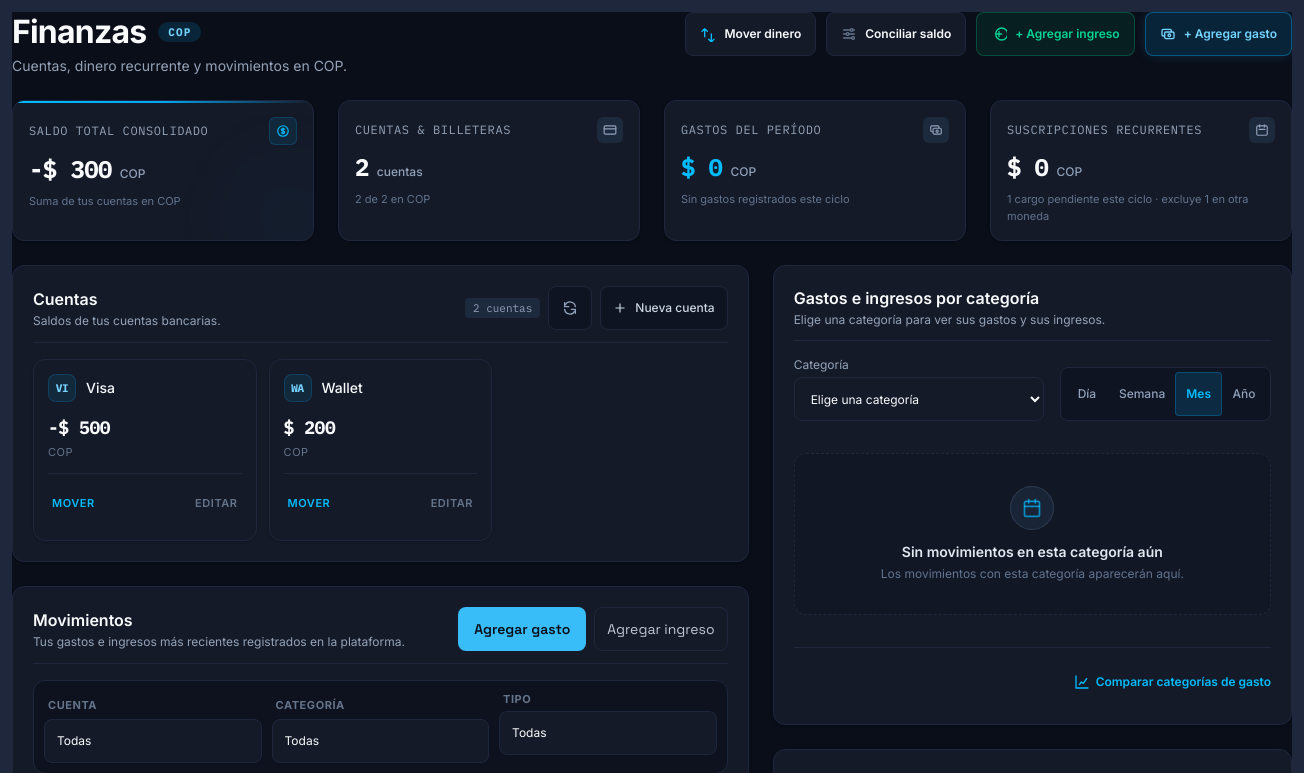
Test: finance T4 body › starts the first real balance editor from the header reconcile action
What coordinates should you click on to do the following:
click the button "Conciliar saldo"
I would click on:
 (896, 34)
Its box is x1=826 y1=12 x2=966 y2=56.
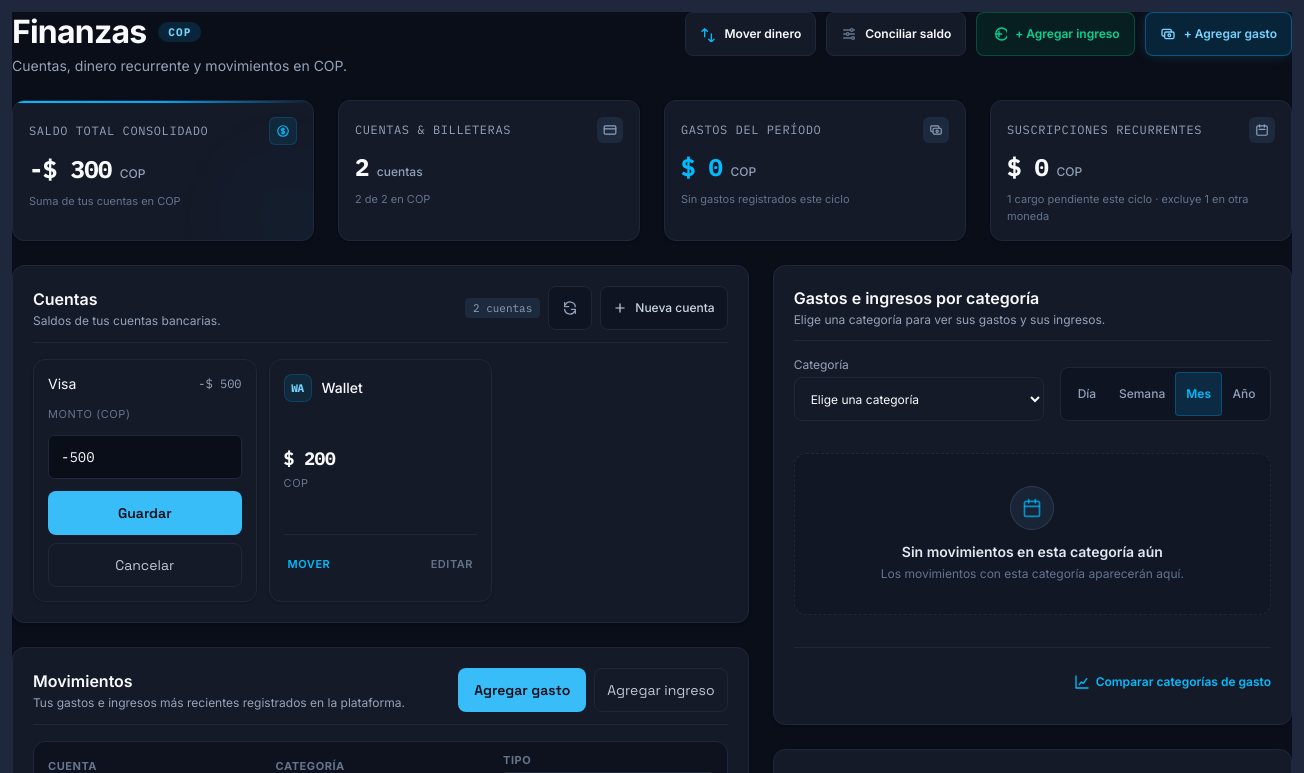
Expected: the field named "Editar saldo de Visa" is shown, x1=48 y1=434 x2=242 y2=478
